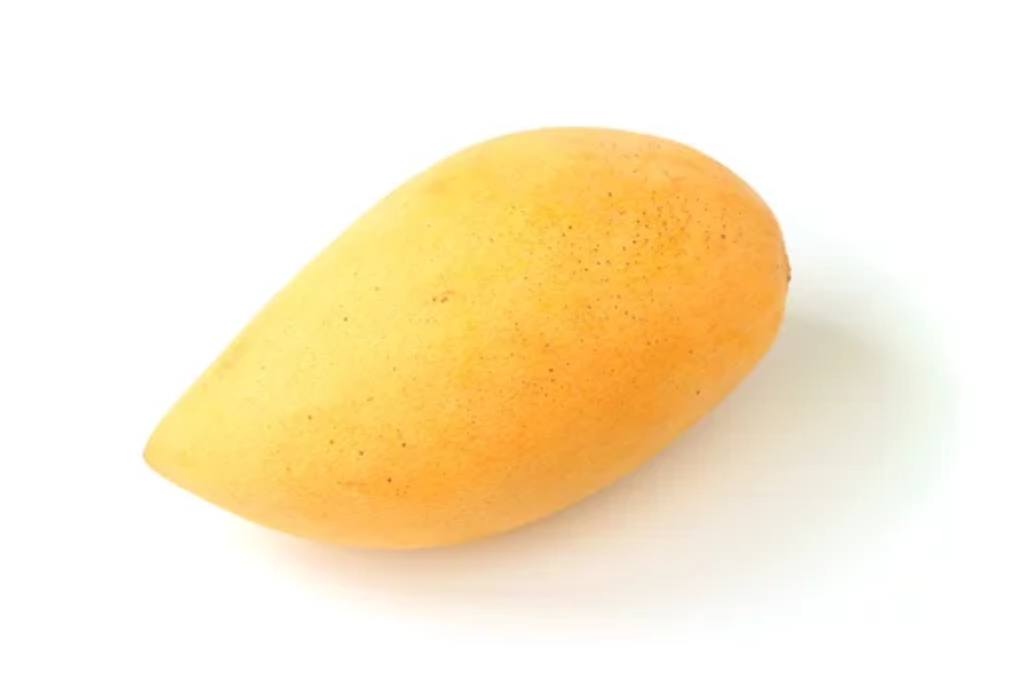mango: (137, 127, 790, 555)
